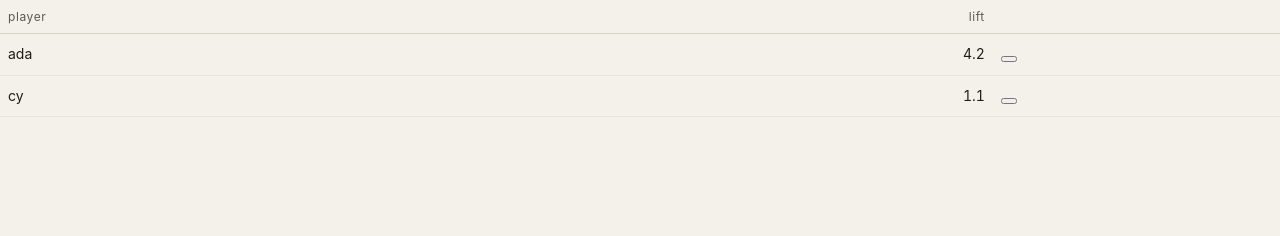
Test: tables on a phone › keeps the essential columns in the row and opens the rest under it on a tap
The image size is (1280, 236).
Expected: the column headings read "player", "lift", "details", in this order, [0,0,596,34]; [596,0,993,34]; [993,0,1279,34]
Expected: the text "$12" is not shown
Click the text "ada" at {"x": 298, "y": 55}, box [0,34,596,75]
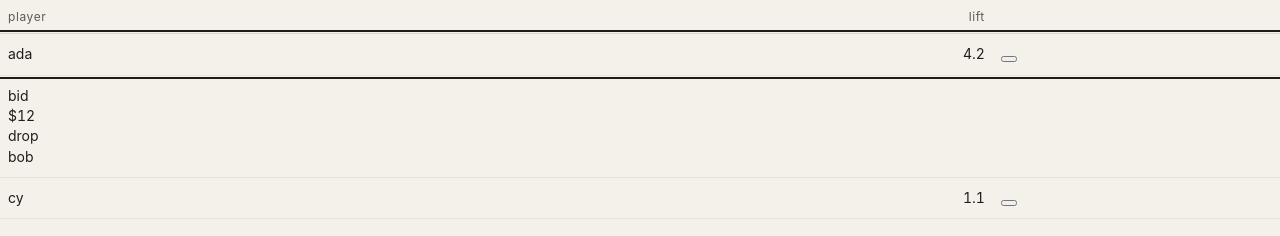
Result: the text "$12" is shown at [8,107,35,124]
Result: the text "bob" is shown at [8,148,34,165]
Click the button named "hide details for ada" at {"x": 1009, "y": 59}, box [1001,56,1017,62]
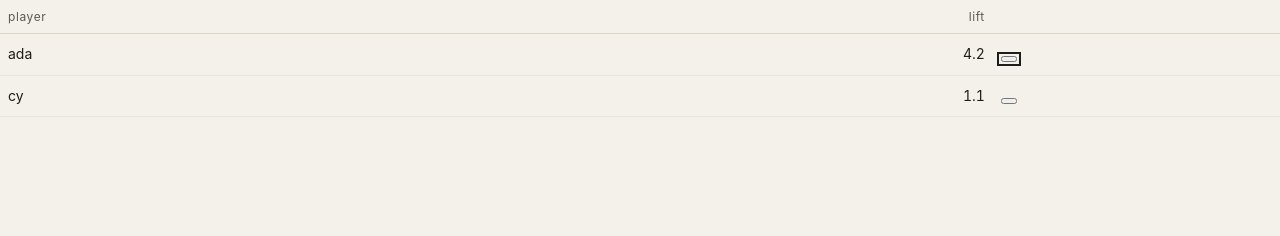
Result: the text "bob" is gone
